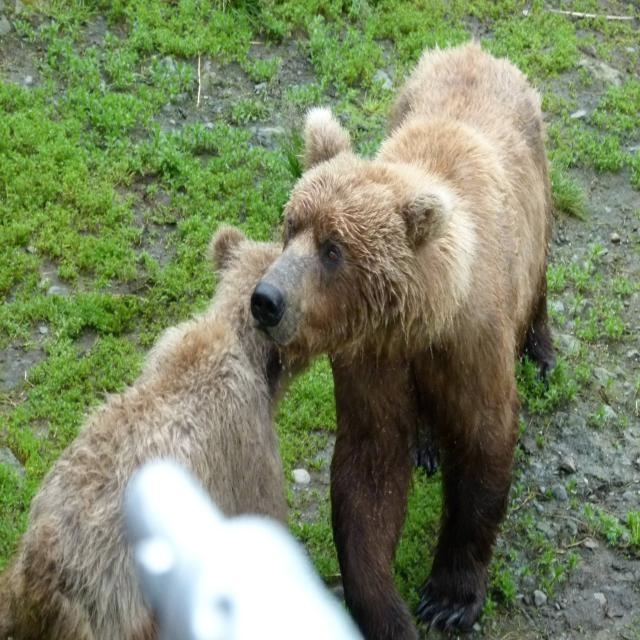bear face: (252, 41, 554, 640), (0, 216, 312, 640)
